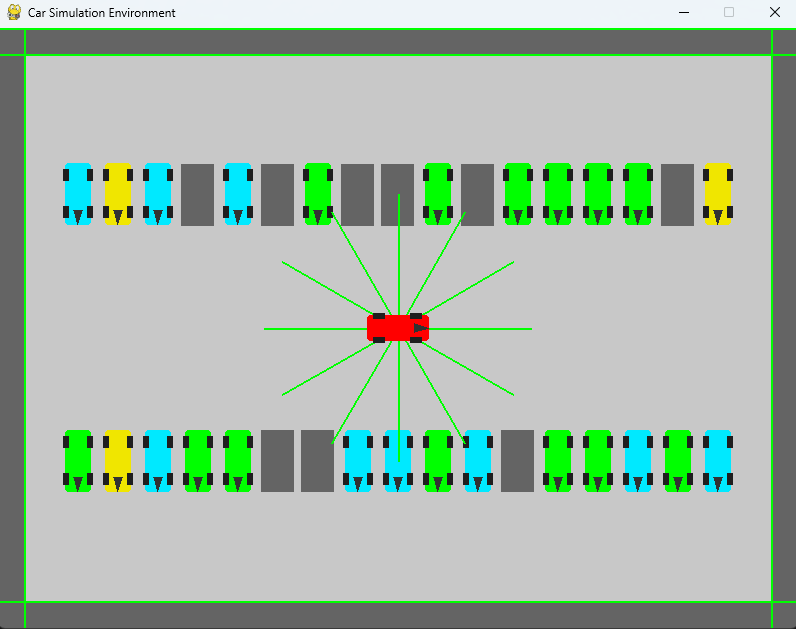ControlledCar: (361, 309, 439, 348)
ParkedCar: (178, 423, 217, 494), (460, 423, 497, 497), (700, 157, 738, 229), (618, 154, 653, 229), (577, 159, 615, 228), (699, 425, 737, 494), (379, 424, 413, 500), (418, 162, 457, 228), (101, 160, 137, 229), (58, 157, 94, 225), (499, 156, 533, 227), (220, 422, 253, 495), (338, 427, 373, 495), (542, 424, 576, 493), (101, 424, 134, 494), (141, 424, 173, 496), (540, 160, 575, 225), (222, 157, 254, 228), (581, 429, 615, 495), (141, 160, 173, 229), (62, 424, 94, 493), (420, 428, 454, 492), (623, 426, 655, 494), (662, 431, 694, 494)
ParkingSpot: (256, 156, 299, 234), (374, 154, 416, 232), (458, 152, 498, 230), (500, 421, 537, 501), (658, 148, 694, 230), (176, 159, 215, 229), (299, 158, 337, 229), (260, 420, 295, 496), (299, 423, 334, 498), (342, 159, 375, 231)
